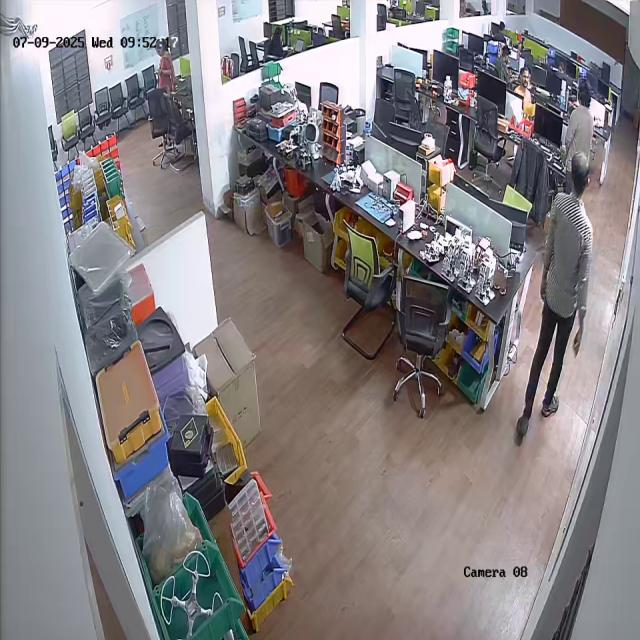person: (511, 148, 589, 429)
